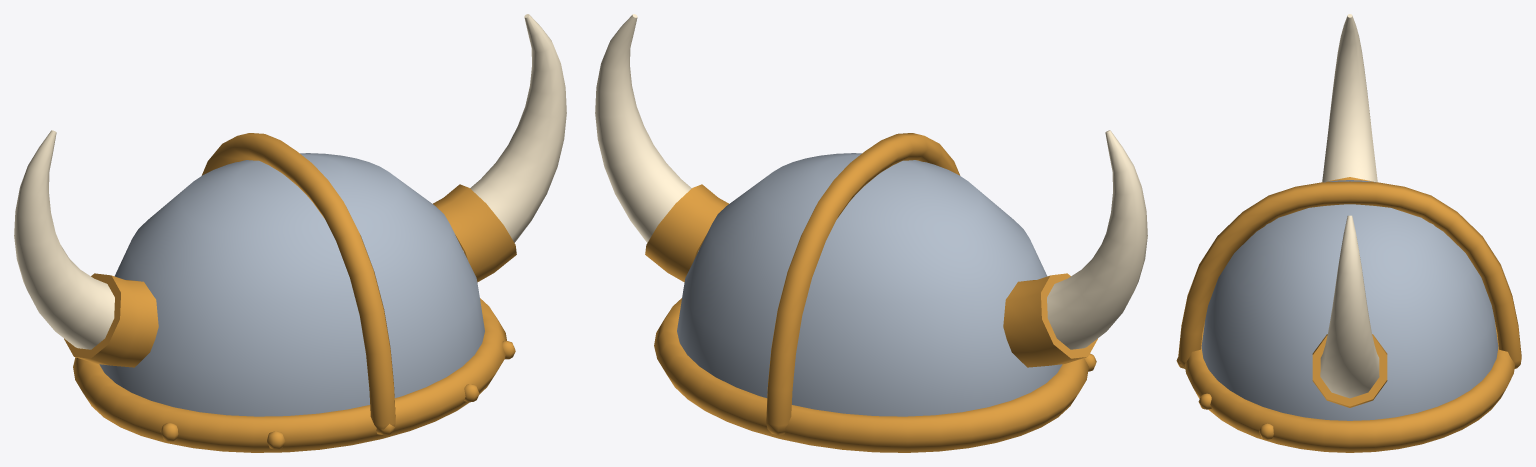
Rendered from viking.glb.
3 views of the same model, side by side, from view 1: azimuth 30°, elevation 25°; view 2: azimuth 150°, elevation 25°; view 3: azimuth 270°, elevation 25° (orthographic). The views are drawn at different scales.
Visible parts, largest first — view 1: viking; view 2: viking; view 3: viking.
Part boxes in pixels (x1,y1,x2,y2): viking: (14,14,566,452); viking: (595,14,1147,452); viking: (1176,14,1521,452).
Size of the model in its own units: 0.8912 by 0.4718 by 0.562.
